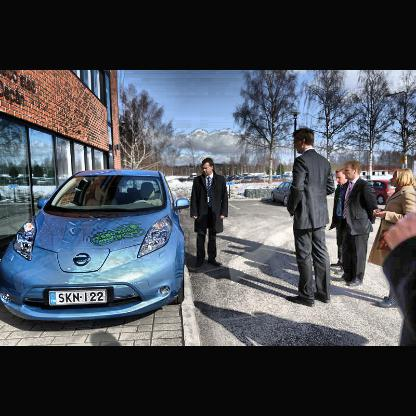Nissan Leaf Hatchback 2012: (2, 168, 193, 324)
